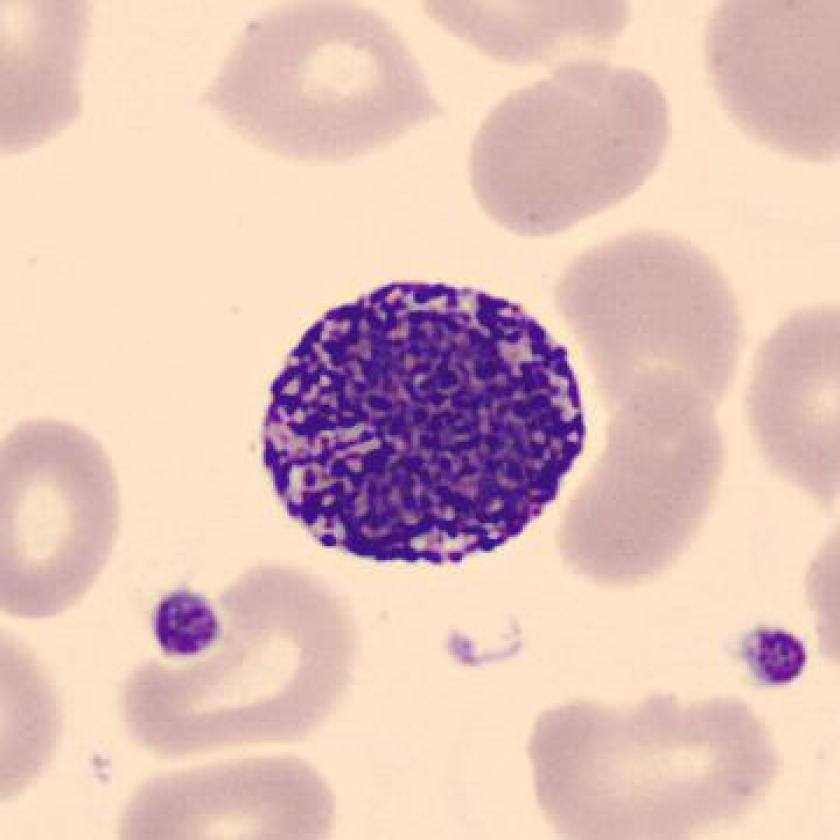basophil: (244, 265, 601, 579)
